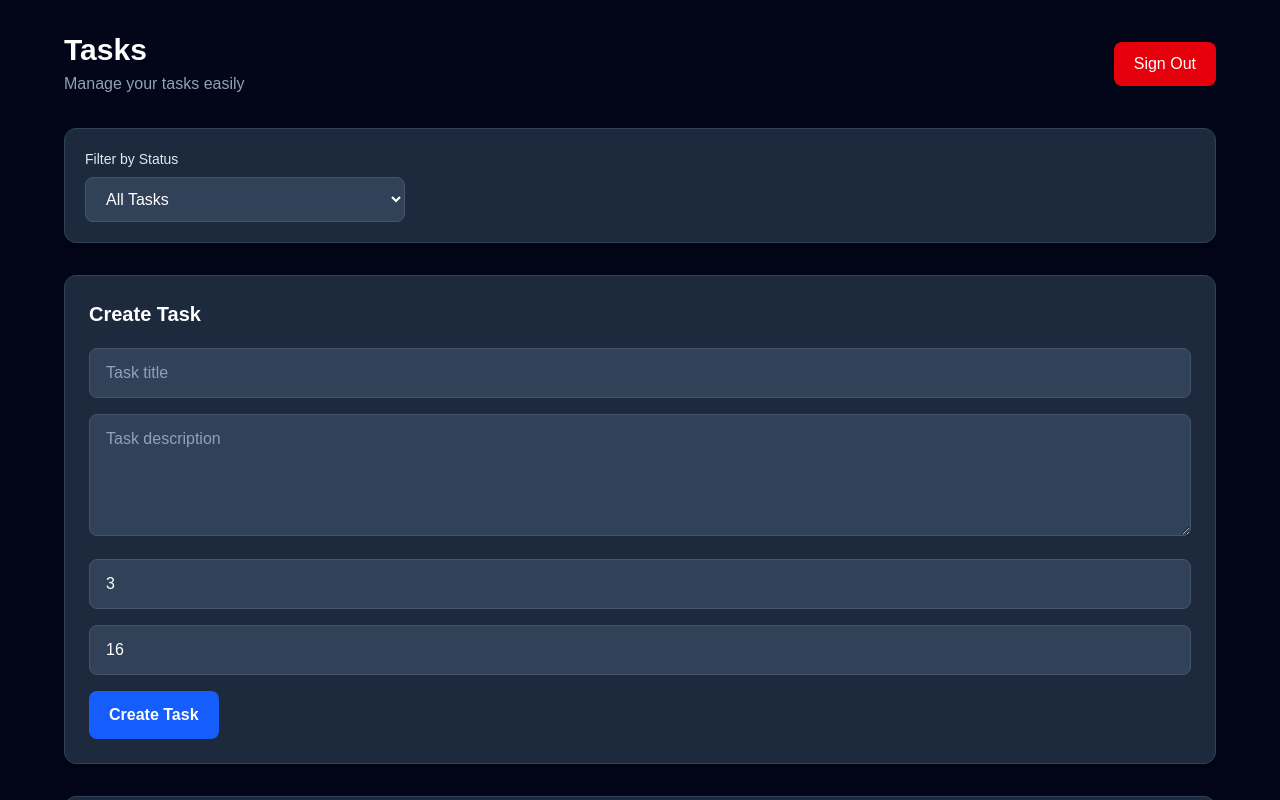
Test: TasksPage create task › renders the API field error and keeps entered values on a 400
Type "abc" into the field with placeholder "Task title" at (640, 373), box top-left (89, 348), bottom-right (1191, 398)
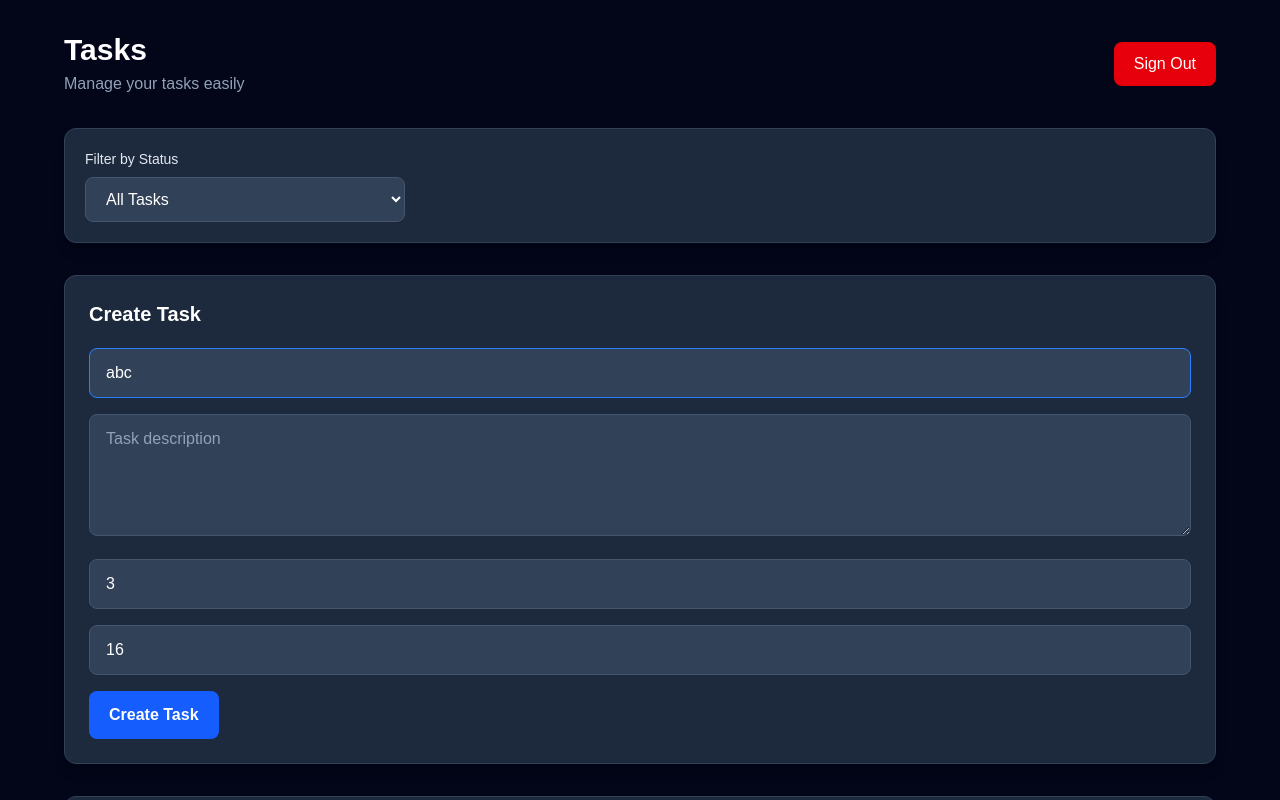
Type "Test description" into the text box with placeholder "Task description" at (640, 475), box top-left (89, 414), bottom-right (1191, 536)
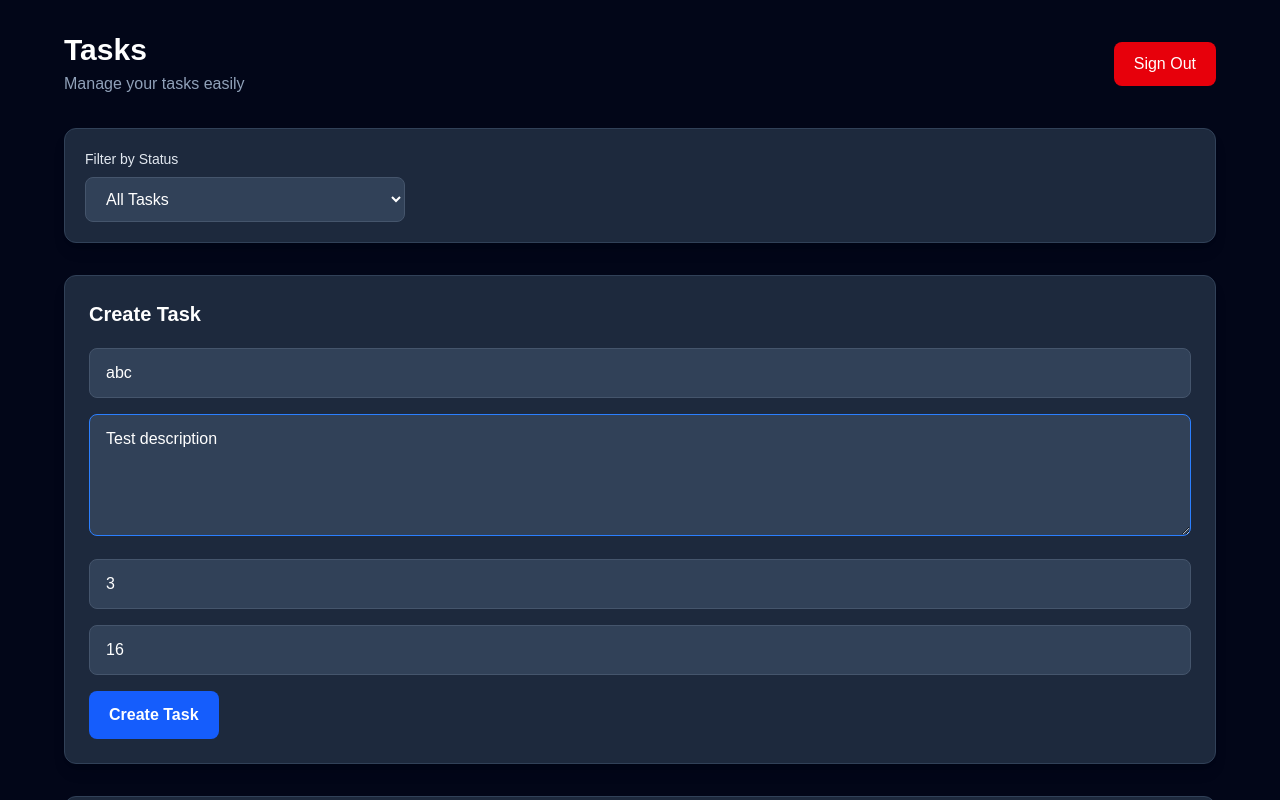
Click the button "Create Task" at (154, 715), box top-left (89, 691), bottom-right (218, 739)
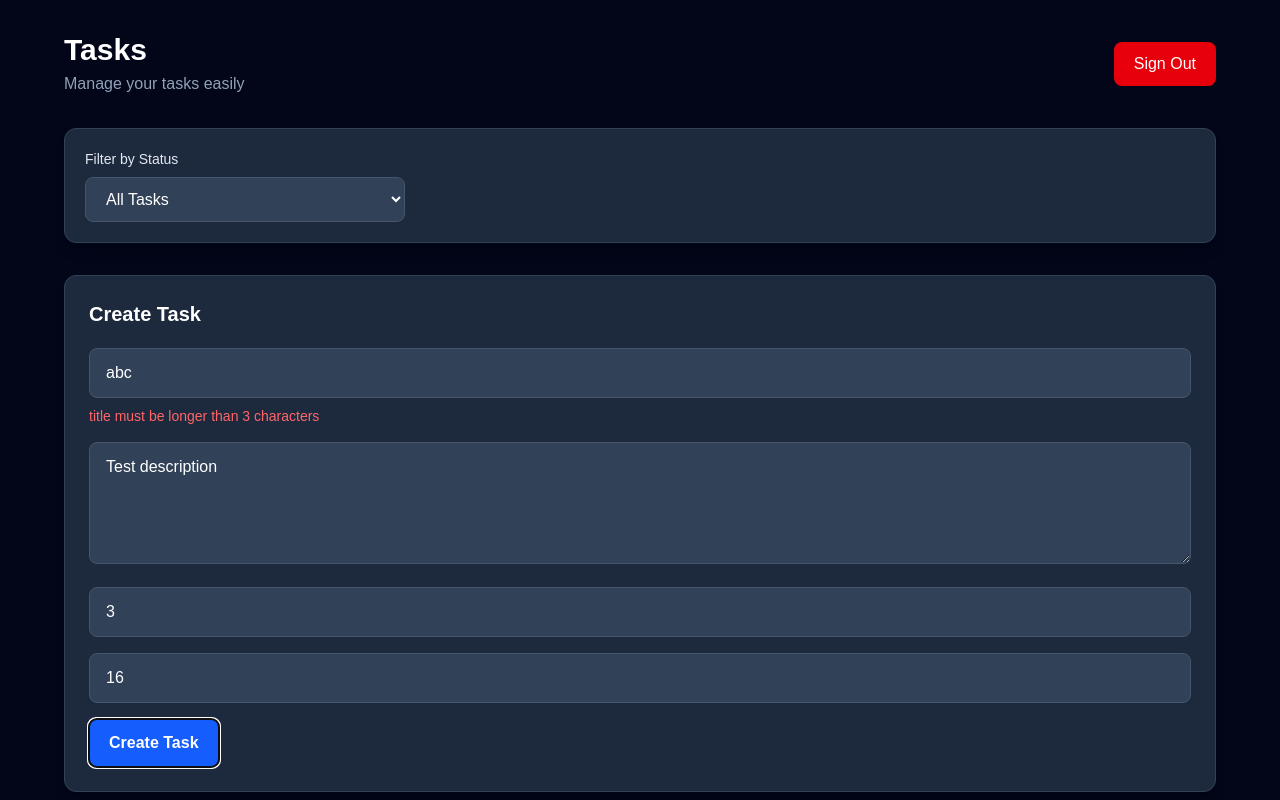
Now the text "title must be longer than 3 characters" is shown, box top-left (89, 408), bottom-right (319, 424)
